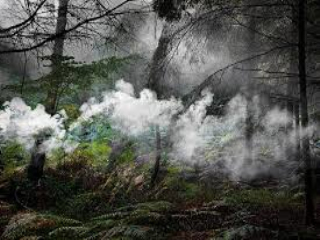smoke: (89, 81, 310, 180), (4, 95, 88, 154)
